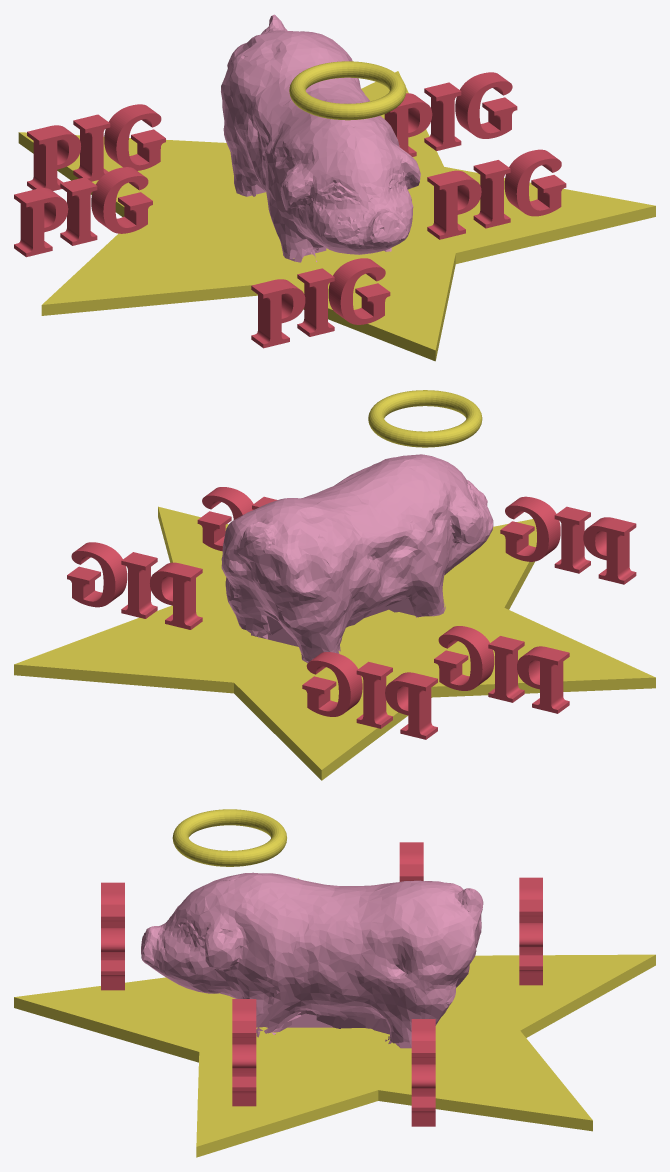
File: pigTinkercad.glb
The picture shows the model from 3 angles, top to bottom: view 1: azimuth 30°, elevation 25°; view 2: azimuth 150°, elevation 25°; view 3: azimuth 270°, elevation 25°; orthographic projection. The views are drawn at different scales.
Visible parts, largest first — view 1: Mesh_Mesh_head_geo.001_lambert2SG.001; view 2: Mesh_Mesh_head_geo.001_lambert2SG.001; view 3: Mesh_Mesh_head_geo.001_lambert2SG.001.
Part boxes in pixels (x1,y1,x2,y2): Mesh_Mesh_head_geo.001_lambert2SG.001: [14, 14, 655, 361]; Mesh_Mesh_head_geo.001_lambert2SG.001: [14, 390, 655, 780]; Mesh_Mesh_head_geo.001_lambert2SG.001: [14, 809, 655, 1157].
Bounding box in the file's own units: 0.0532 × 0.0173 × 0.0537.
